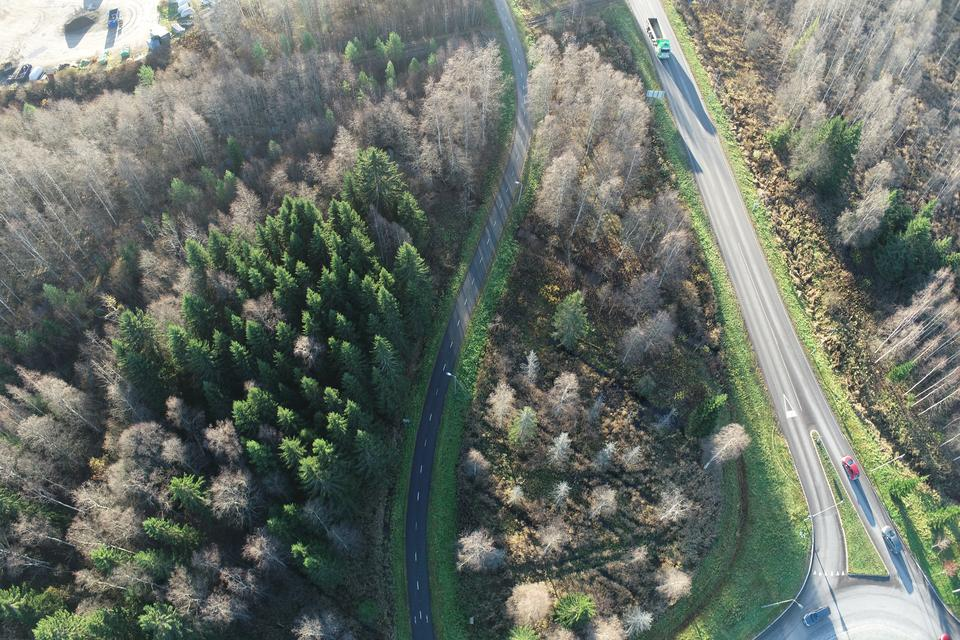roundabout: (718, 522, 960, 640)
